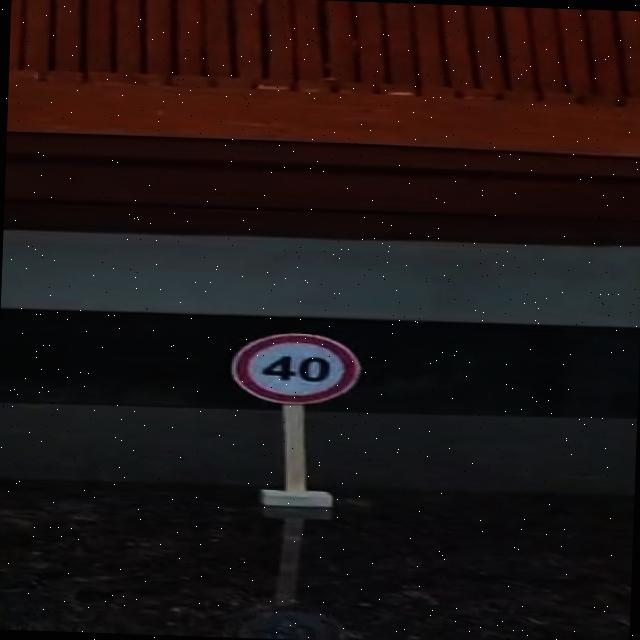Speed40: (222, 325, 372, 410)
